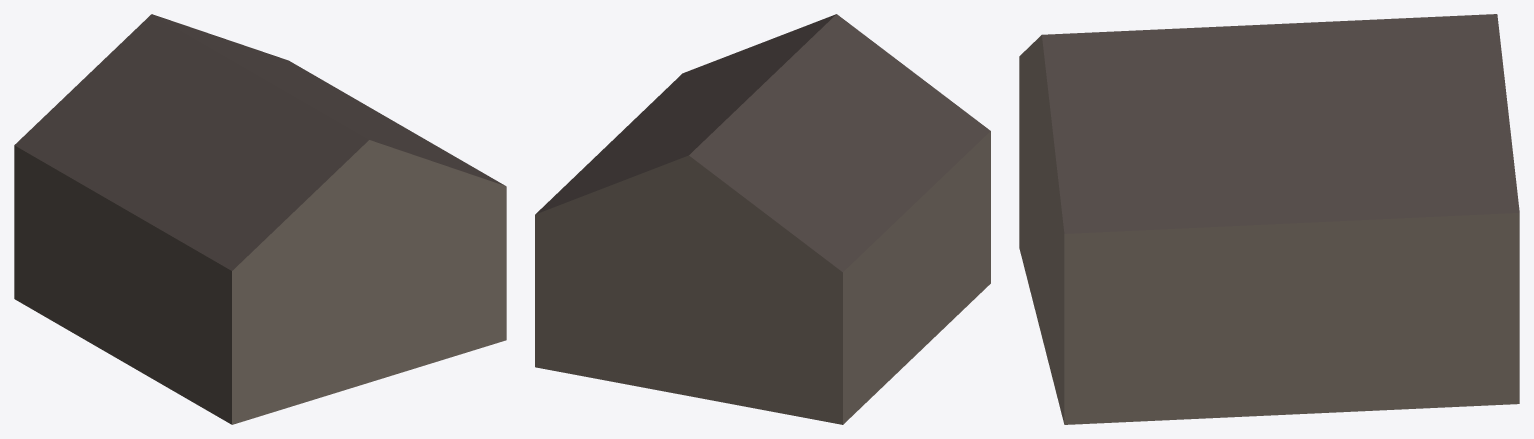
3 views of the same model, side by side, from view 1: azimuth 30°, elevation 25°; view 2: azimuth 150°, elevation 25°; view 3: azimuth 270°, elevation 25° (orthographic). The views are drawn at different scales.
Parts seen in each view (by area): view 1: HP-w859078880; view 2: HP-w859078880; view 3: HP-w859078880.
Part boxes in pixels (x1,y1,x2,y2): HP-w859078880: [14, 14, 506, 424]; HP-w859078880: [535, 14, 990, 424]; HP-w859078880: [1019, 14, 1519, 424].
Size of the model in its own units: 13.35 by 9.47 by 14.25.
